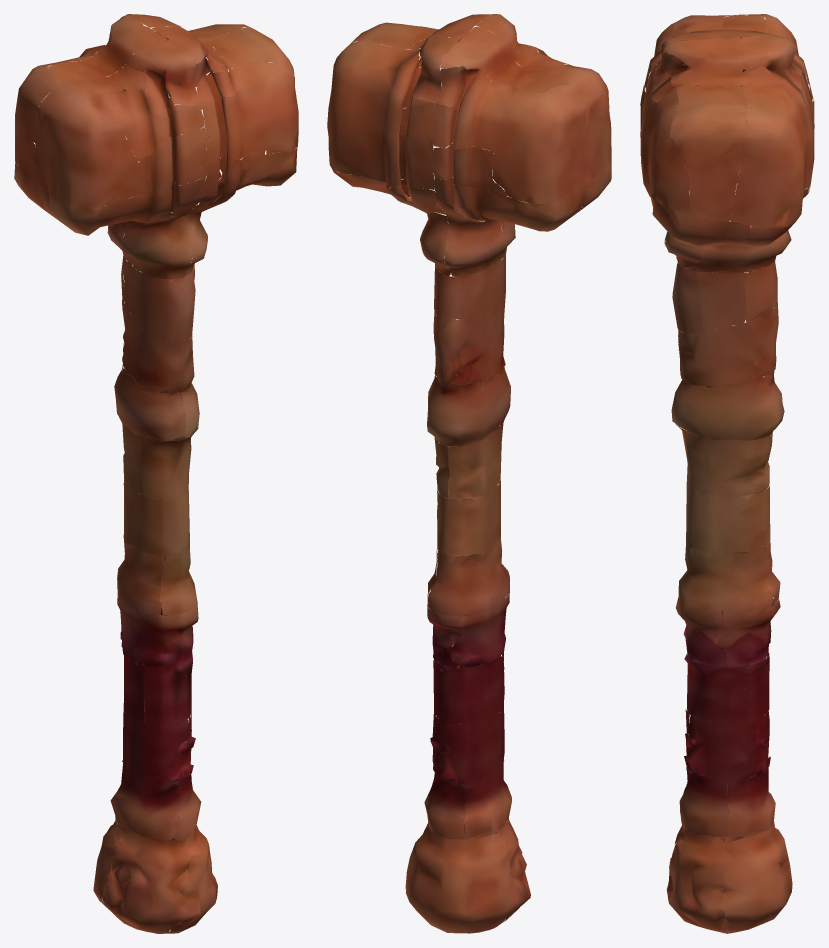
File: hammer1.glb
The picture shows the model from 3 angles, left to right: view 1: azimuth 30°, elevation 25°; view 2: azimuth 150°, elevation 25°; view 3: azimuth 270°, elevation 25°; orthographic projection.
Visible parts, largest first — view 1: hammer1; view 2: hammer1; view 3: hammer1.
Part boxes in pixels (<box>): hammer1: <box>14,14,298,933</box>; hammer1: <box>327,14,611,933</box>; hammer1: <box>640,14,814,933</box>.
Size of the model in its own units: 0.2729 by 1 by 0.176.
1 material, 1 textured.
